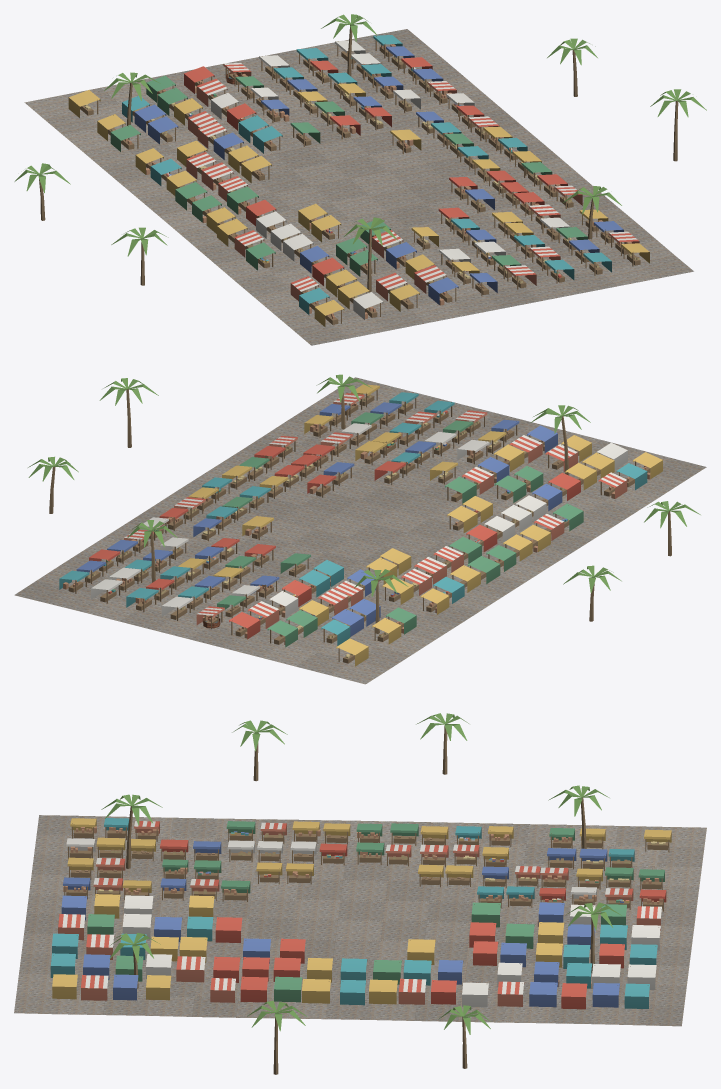
The model's file is uruk_market.glb.
The picture shows the model from 3 angles, top to bottom: view 1: azimuth 30°, elevation 25°; view 2: azimuth 150°, elevation 25°; view 3: azimuth 270°, elevation 25°; orthographic projection. The views are drawn at different scales.
Parts seen in each view (by area): view 1: uruk_market; view 2: uruk_market; view 3: uruk_market.
Boxes of the visible parts, x1,y1,x2,y2 form: uruk_market: [14, 14, 706, 345]; uruk_market: [14, 374, 706, 684]; uruk_market: [14, 713, 706, 1074].
Bounding box in the file's own units: 101 × 12.34 × 95.31.
Materials: 16 (2 with a texture image).
